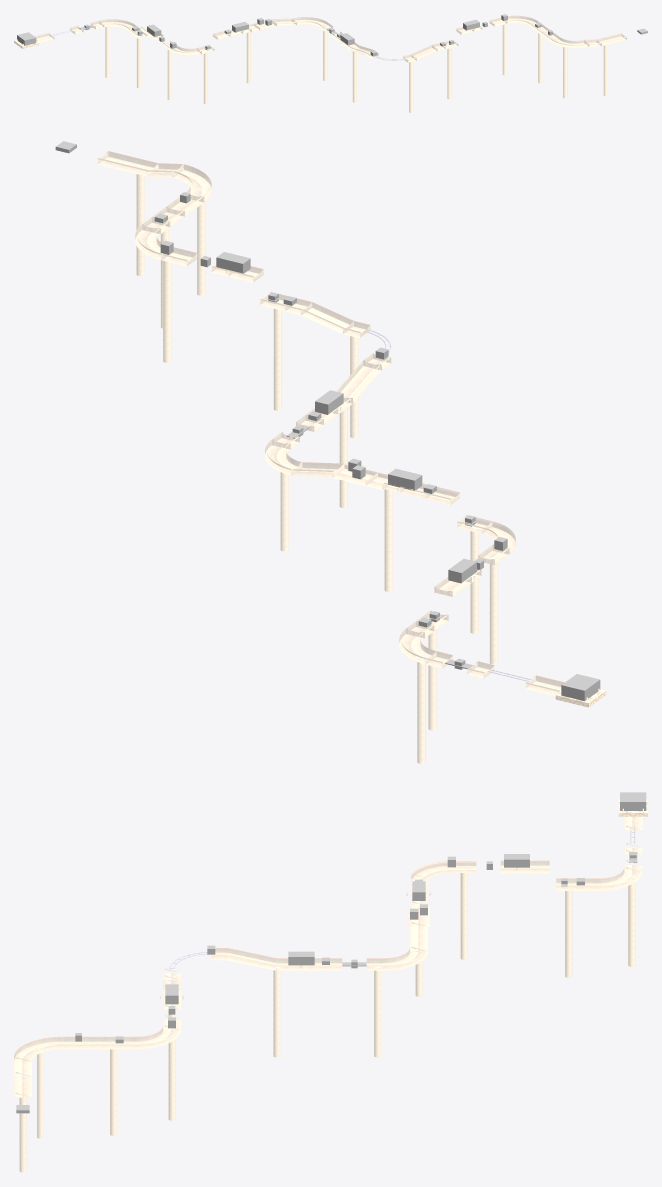
Rendered from level.gltf.
3 views of the same model, one above another, from view 1: azimuth 30°, elevation 25°; view 2: azimuth 150°, elevation 25°; view 3: azimuth 270°, elevation 25° (orthographic). The views are drawn at different scales.
Visible parts, largest first — view 1: Floor_004, Floor_036, Floor_018, Column_013, Column_007, Column_005, Column_009, Column_004, Column_012, Column_006, Column_001, Column_008 (+10 smaller); view 2: Column_001, Column_010, Column_005, Column_009, Column_003; view 3: Floor_036, Column_003, Column_007, Column_002, Column_001, Floor_023, Column_010, Column_006, Column_012, Column_011, Floor_018, Floor_004 (+2 smaller).
Boxes of the visible parts, left/top/right/bottom form: Floor_004: left=99, top=19, right=134, bottom=29; Floor_036: left=551, top=37, right=589, bottom=48; Floor_018: left=292, top=17, right=327, bottom=27; Column_013: left=603, top=41, right=607, bottom=95; Column_007: left=352, top=48, right=356, bottom=102; Column_005: left=246, top=30, right=250, bottom=83; Column_009: left=447, top=46, right=451, bottom=99; Column_004: left=203, top=50, right=207, bottom=104; Column_012: left=563, top=45, right=567, bottom=98; Column_006: left=323, top=27, right=327, bottom=80; Column_001: left=105, top=26, right=109, bottom=77; Column_008: left=409, top=60, right=413, bottom=112; Column_001: left=415, top=655, right=426, bottom=763; Column_010: left=163, top=255, right=171, bottom=362; Column_005: left=384, top=489, right=392, bottom=591; Column_009: left=273, top=304, right=281, bottom=410; Column_003: left=488, top=556, right=497, bottom=664; Floor_036: left=14, top=1036, right=62, bottom=1062; Column_003: left=459, top=868, right=468, bottom=959; Column_007: left=273, top=965, right=281, bottom=1057; Column_002: left=565, top=887, right=572, bottom=977; Column_001: left=627, top=875, right=636, bottom=966; Floor_023: left=226, top=948, right=276, bottom=970; Column_010: left=168, top=1028, right=175, bottom=1120; Column_006: left=373, top=965, right=381, bottom=1057; Column_012: left=35, top=1047, right=44, bottom=1138; Column_011: left=110, top=1044, right=117, bottom=1135; Floor_018: left=382, top=947, right=427, bottom=970; Floor_004: left=596, top=868, right=642, bottom=890.
Bounding box in the file's own units: 538 × 112 × 387.
Materials: 7 (7 with a texture image).
